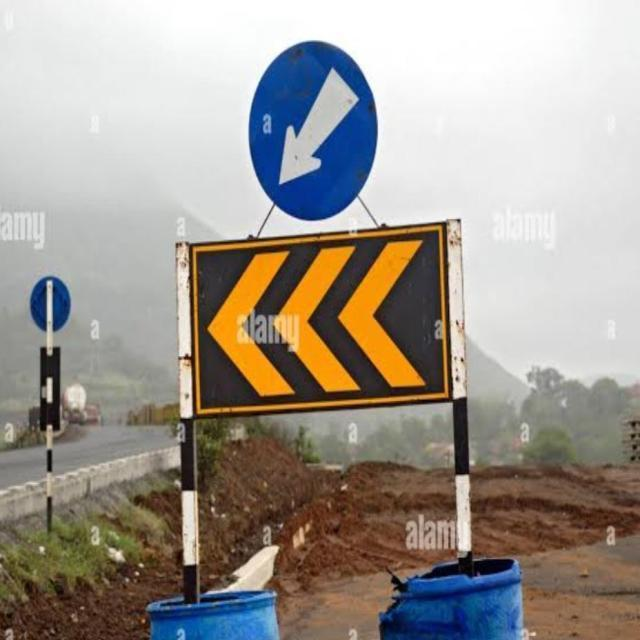compulsary keep left: (237, 34, 388, 227)
